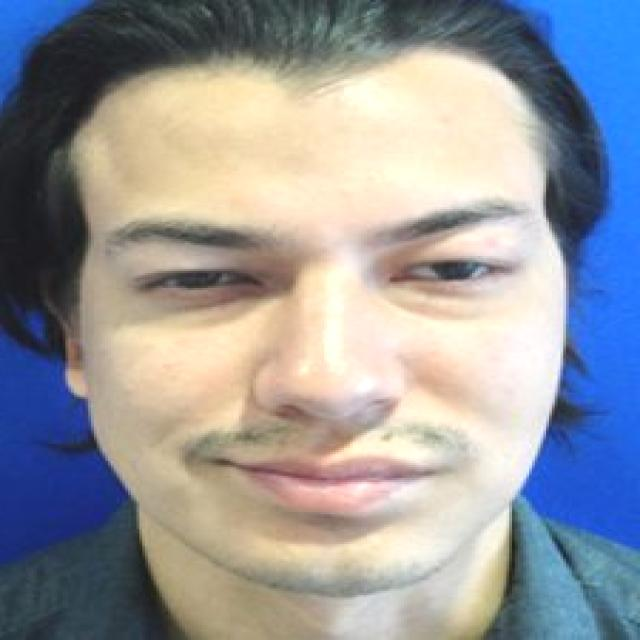normal_face: (77, 67, 551, 582)
